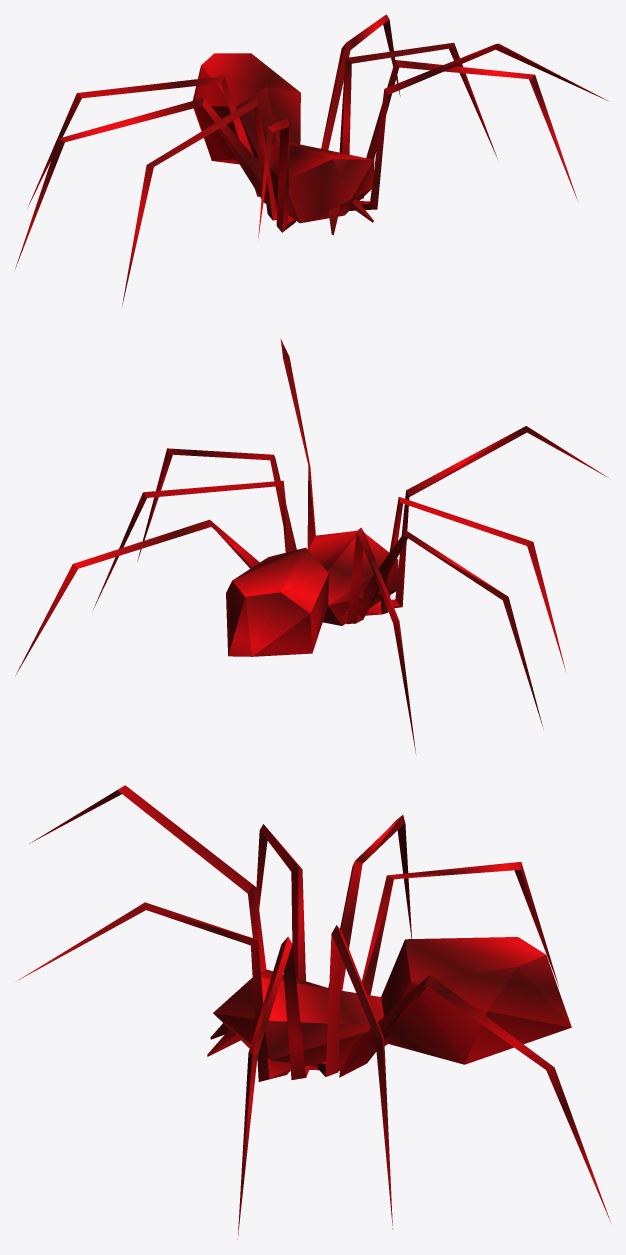
The model's file is spider.fbx.
3 renders of one model, top to bottom at view 1: azimuth 30°, elevation 25°; view 2: azimuth 150°, elevation 25°; view 3: azimuth 270°, elevation 25°, orthographic. The views are drawn at different scales.
Parts seen in each view (by area): view 1: Spiders; view 2: Spiders; view 3: Spiders.
Boxes of the visible parts, left/top/right/bottom form: Spiders: left=15, top=14, right=608, bottom=306; Spiders: left=15, top=339, right=609, bottom=752; Spiders: left=16, top=785, right=610, bottom=1239.
Bounding box in the file's own units: 86.32 × 36.32 × 73.84.
1 material, 1 textured.
